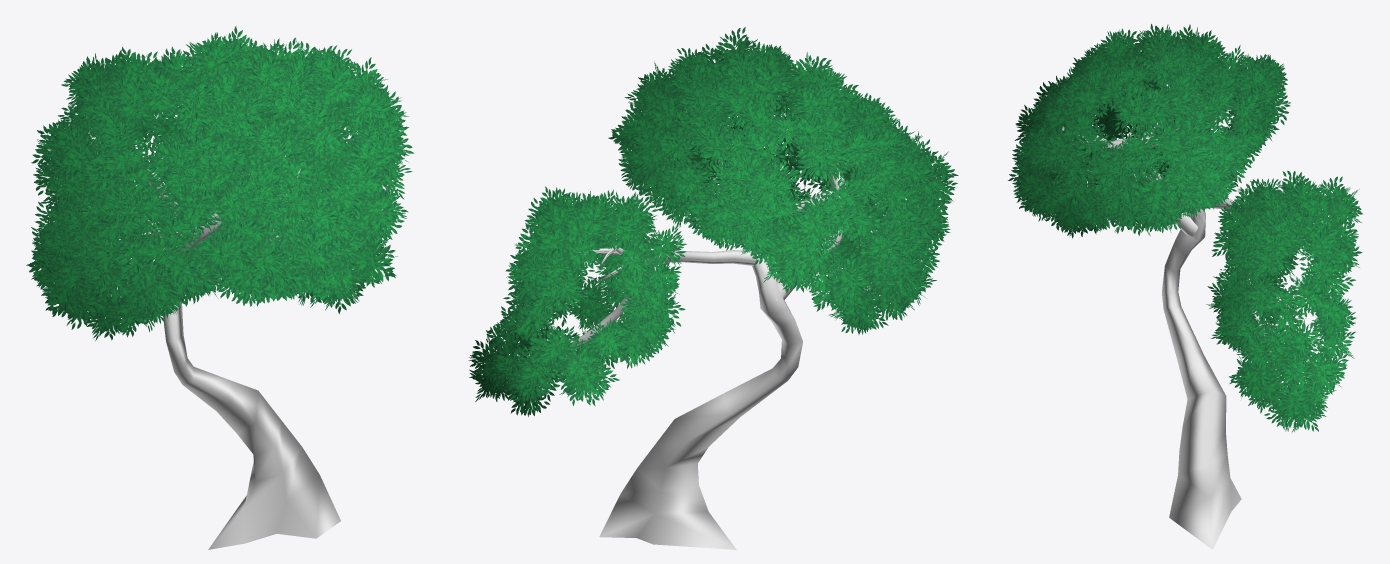
The model's file is Tree_Dire_L.fbx.
3 renders of one model, left to right at view 1: azimuth 30°, elevation 25°; view 2: azimuth 150°, elevation 25°; view 3: azimuth 270°, elevation 25°, orthographic. The views are drawn at different scales.
Visible parts, largest first — view 1: Tree_D_L_LOD0; view 2: Tree_D_L_LOD0; view 3: Tree_D_L_LOD0.
Part boxes in pixels (<box>): Tree_D_L_LOD0: <box>26,26,413,549</box>; Tree_D_L_LOD0: <box>468,27,958,549</box>; Tree_D_L_LOD0: <box>1008,24,1362,549</box>.
Size of what is drawn, in the model's own units: 1846 by 2174 by 1617.
